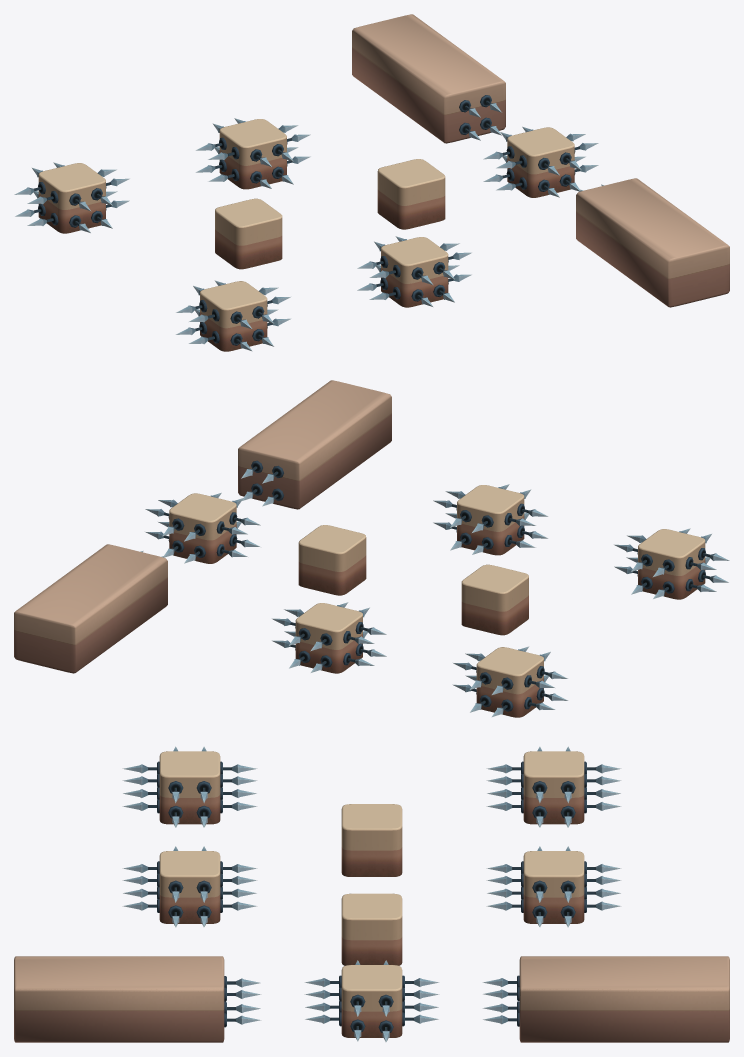
The model's file is Props.fbx.
3 renders of one model, top to bottom at view 1: azimuth 30°, elevation 25°; view 2: azimuth 150°, elevation 25°; view 3: azimuth 270°, elevation 25°, orthographic. The views are drawn at different scales.
Visible parts, largest first — view 1: Box01 (×7), Box20-2 (2), Box20-2 (3); view 2: Box01 (×7), Box20-2 (3), Box20-2 (2); view 3: Box01 (×7), Box20-2 (2), Box20-2 (3).
Boxes of the visible parts, bbox=[...] form: Box01 (×7): bbox=[38, 119, 574, 351]; Box20-2 (2): bbox=[576, 178, 729, 307]; Box20-2 (3): bbox=[352, 14, 505, 143]; Box01 (×7): bbox=[169, 485, 705, 717]; Box20-2 (3): bbox=[14, 544, 167, 673]; Box20-2 (2): bbox=[238, 380, 391, 509]; Box01 (×7): bbox=[159, 751, 584, 1037]; Box20-2 (2): bbox=[14, 956, 224, 1042]; Box20-2 (3): bbox=[519, 956, 729, 1042].
Size of the model in its own units: 31.7 by 3 by 35.4.
Materials: 3 (3 with a texture image).
